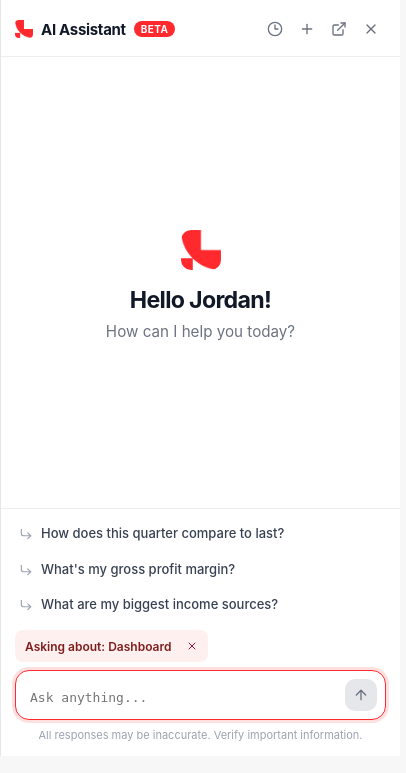
Test: AiAssistant › does not file a signal when History is empty
The image size is (406, 773).
What coordinates should you click on to do the following:
click the button named "History"
I would click on:
 (275, 29)
Its box is [260,14,290,44].
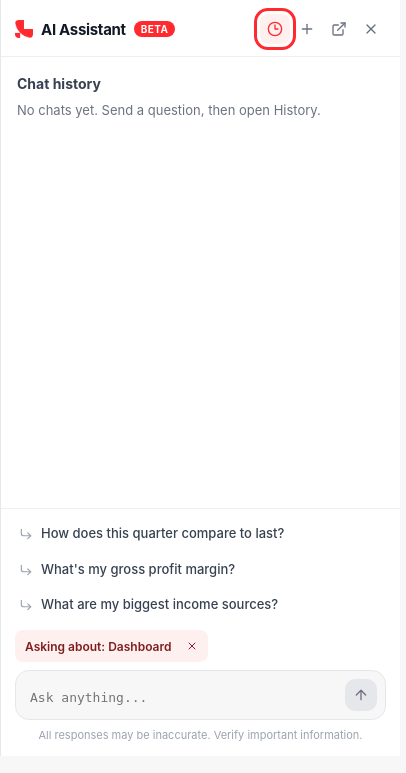
Expected: the text "No chats yet. Send a question, then open History." is shown, [17,102,321,118]
